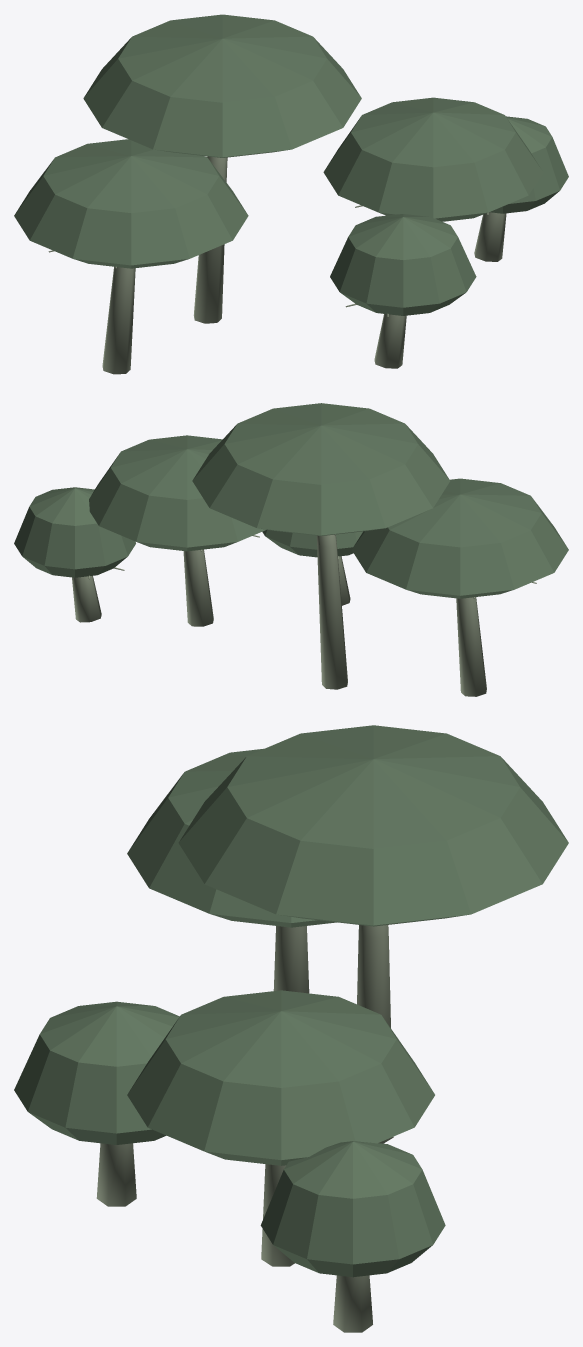
The model's file is exit-mushrooms.glb.
The picture shows the model from 3 angles, top to bottom: view 1: azimuth 30°, elevation 25°; view 2: azimuth 150°, elevation 25°; view 3: azimuth 270°, elevation 25°; orthographic projection. The views are drawn at different scales.
Visible parts, largest first — view 1: Surface; view 2: Surface; view 3: Surface.
Boxes of the visible parts, x1,y1,x2,y2 form: Surface: [14, 14, 568, 374]; Surface: [14, 403, 568, 696]; Surface: [14, 725, 568, 1332].
Size of the model in its own units: 0.87 by 0.4181 by 0.54.
